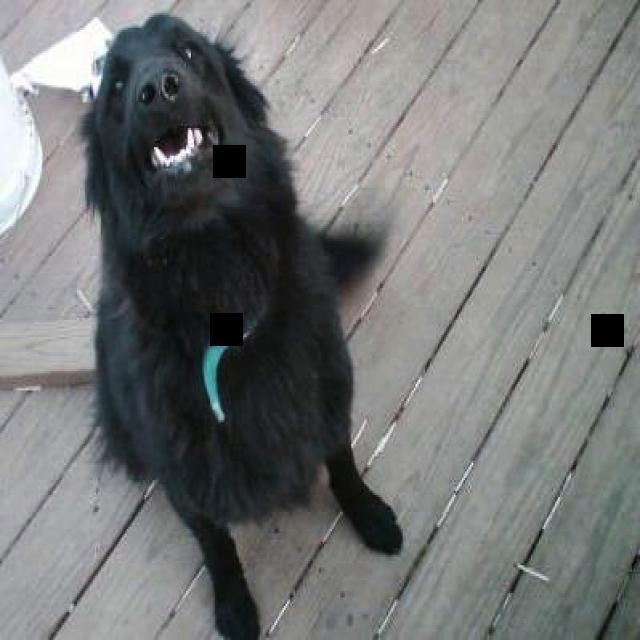adult_dog: (65, 7, 412, 640)
